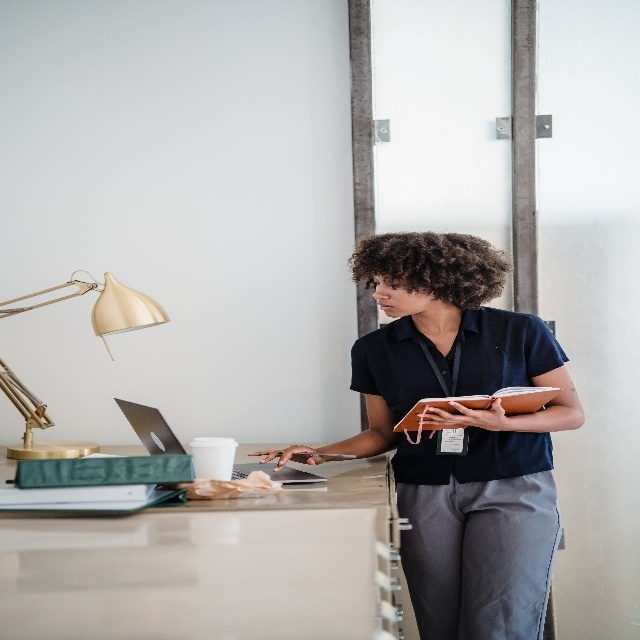Sin_guantes: (415, 398, 506, 432), (248, 440, 326, 475)
